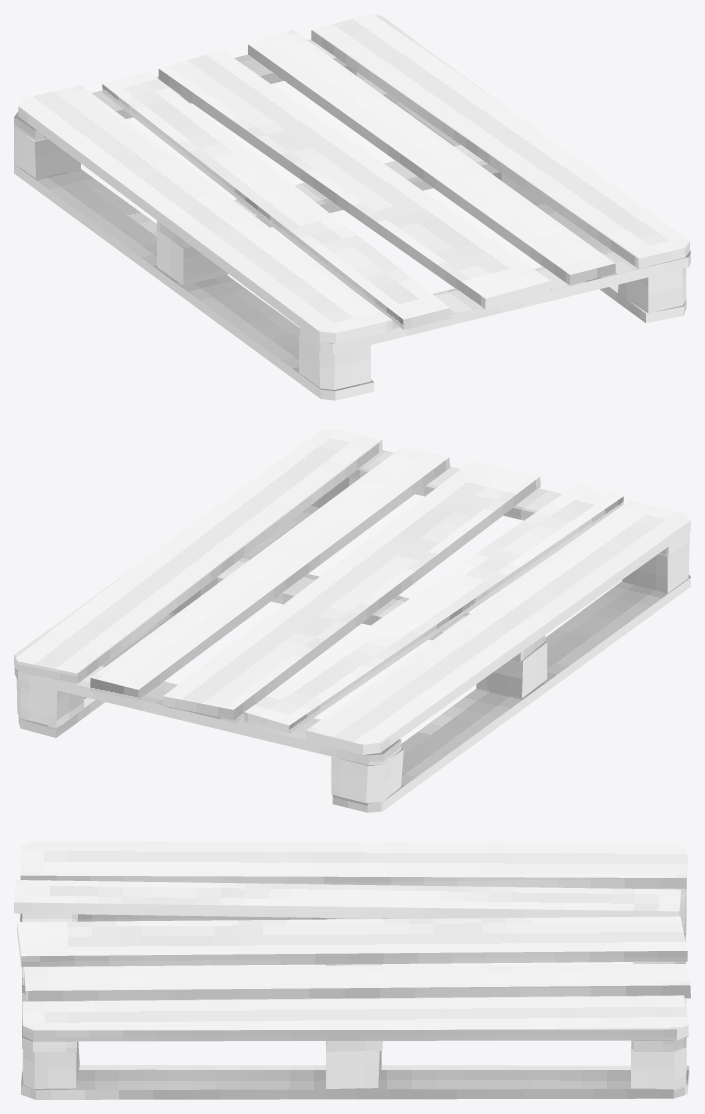
File: WoodenLengthwisePalletEuro.glb
3 views of the same model, one above another, from view 1: azimuth 30°, elevation 25°; view 2: azimuth 150°, elevation 25°; view 3: azimuth 270°, elevation 25° (orthographic). The views are drawn at different scales.
Visible parts, largest first — view 1: WoodenLengthwisePalletEuro; view 2: WoodenLengthwisePalletEuro; view 3: WoodenLengthwisePalletEuro.
Boxes of the visible parts, x1,y1,x2,y2 form: WoodenLengthwisePalletEuro: (14, 14, 690, 400); WoodenLengthwisePalletEuro: (14, 429, 690, 812); WoodenLengthwisePalletEuro: (14, 841, 690, 1099).
Bounding box in the file's own units: 0.8011 × 0.1441 × 1.21.
Materials: 1 (1 with a texture image).
